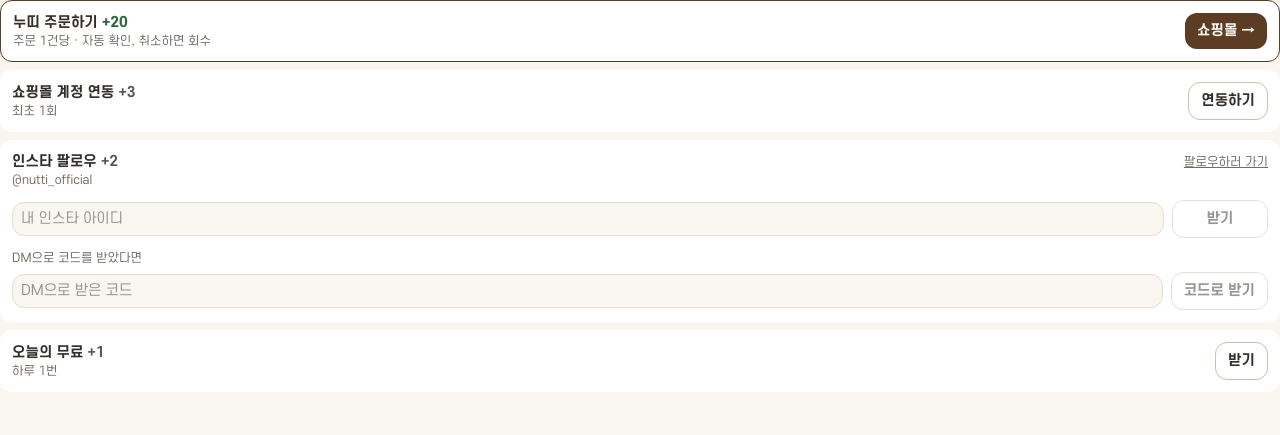
EarnActionList · 인스타 DM 코드 › 남이 먼저 쓴 인스타 계정이면 그렇게 말한다
Type "nutti2026" into the field named "인스타 DM 코드". click: (587, 291)
box: x1=12 y1=274 x2=1163 y2=308
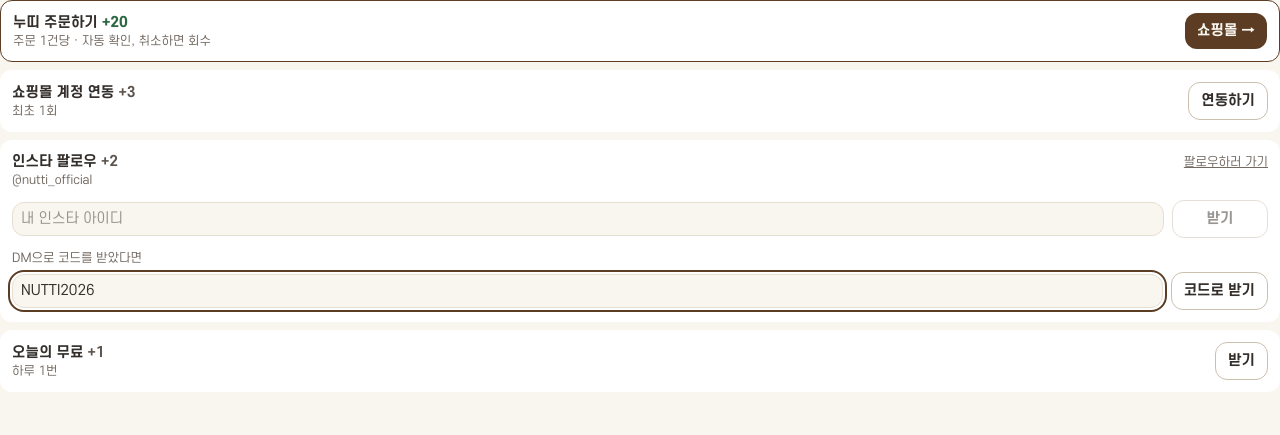
Click the button "코드로 받기". click: (1219, 291)
box: x1=1171 y1=272 x2=1268 y2=310
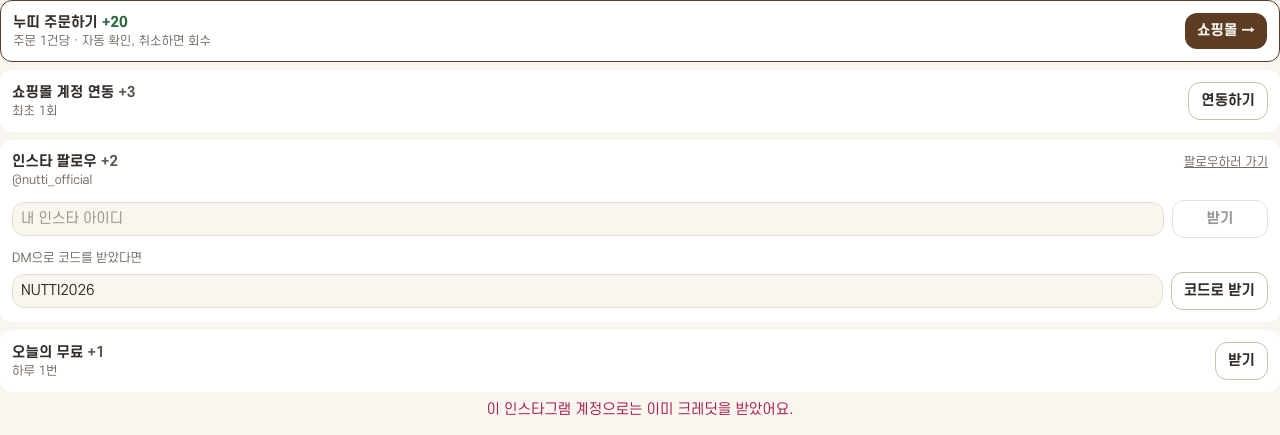
Now the message reads "이 인스타그램 계정으로는 이미 크레딧을 받았어요.", box x1=486 y1=401 x2=793 y2=418
